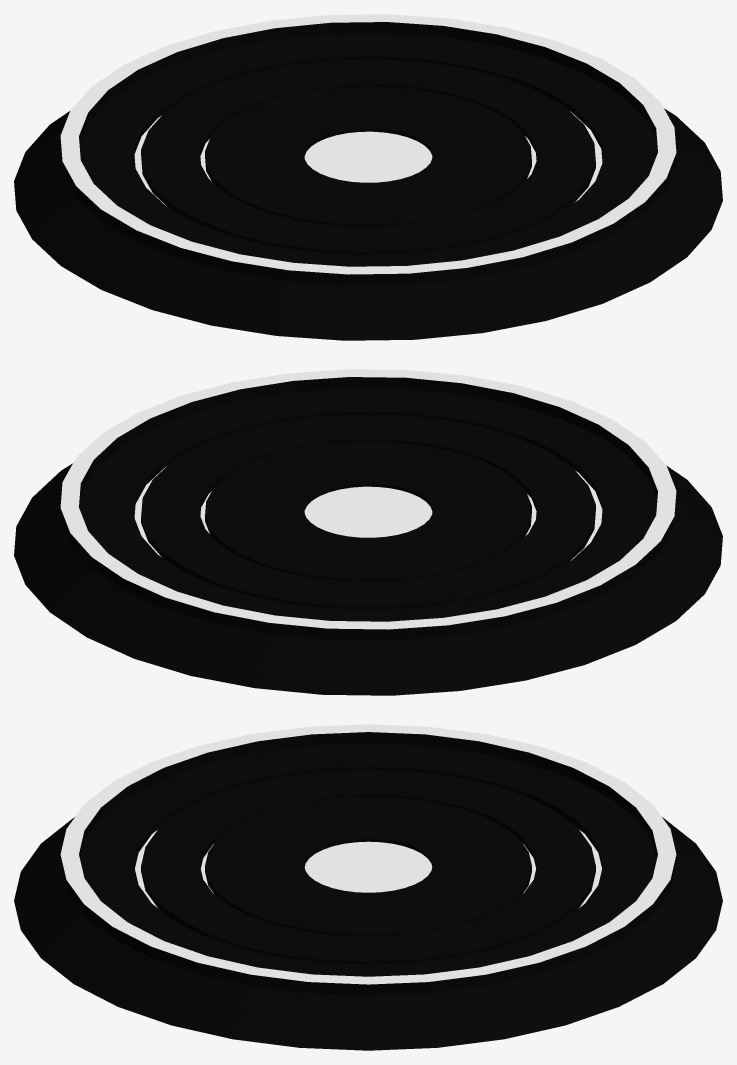
The model's file is table.glb.
3 views of the same model, one above another, from view 1: azimuth 30°, elevation 25°; view 2: azimuth 150°, elevation 25°; view 3: azimuth 270°, elevation 25° (orthographic).
Parts seen in each view (by area): view 1: Circle; view 2: Circle; view 3: Circle.
Part boxes in pixels (x1,y1,x2,y2): Circle: [14, 14, 722, 340]; Circle: [14, 369, 722, 695]; Circle: [14, 724, 722, 1050].
Bounding box in the file's own units: 2 × 0.1448 × 2.
Materials: 1 (1 with a texture image).
